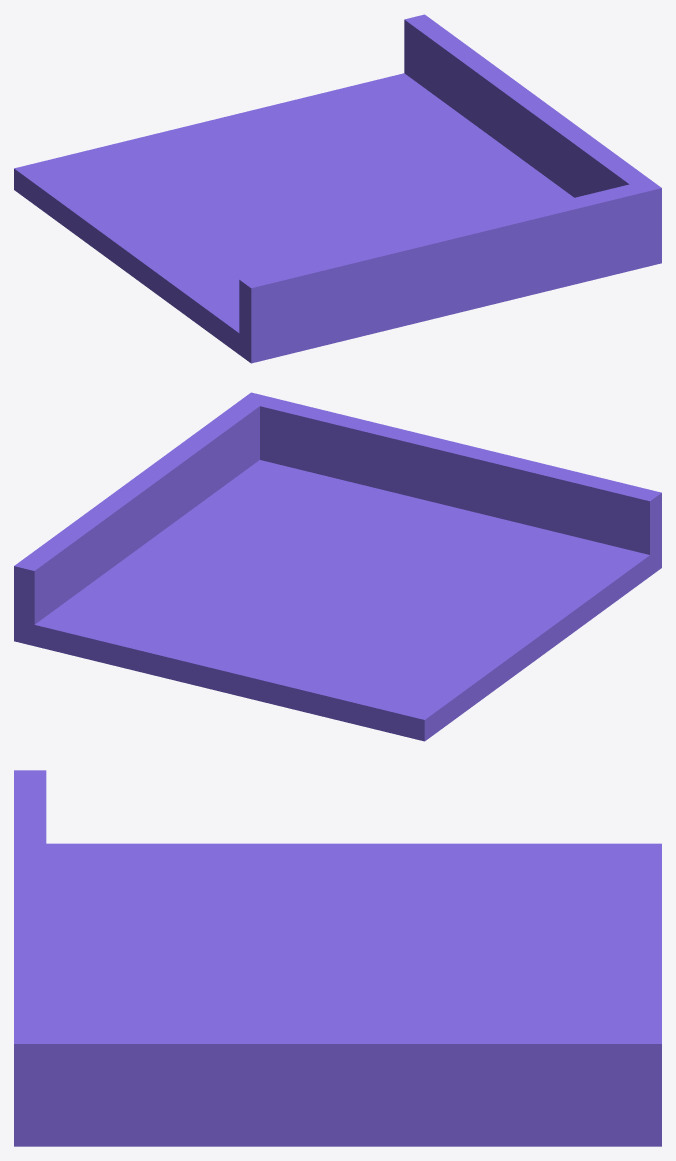
Rendered from PurpleRoof_Corner.glb.
The picture shows the model from 3 angles, top to bottom: view 1: azimuth 30°, elevation 25°; view 2: azimuth 150°, elevation 25°; view 3: azimuth 270°, elevation 25°; orthographic projection. The views are drawn at different scales.
Parts seen in each view (by area): view 1: roof_flat_corner_purple; view 2: roof_flat_corner_purple; view 3: roof_flat_corner_purple.
Boxes of the visible parts, x1,y1,x2,y2 form: roof_flat_corner_purple: (14,14,661,363); roof_flat_corner_purple: (14,392,661,741); roof_flat_corner_purple: (14,770,661,1146).
Size of what is drawn, in the model's own units: 4 by 0.7 by 4.
1 material, 1 textured.
